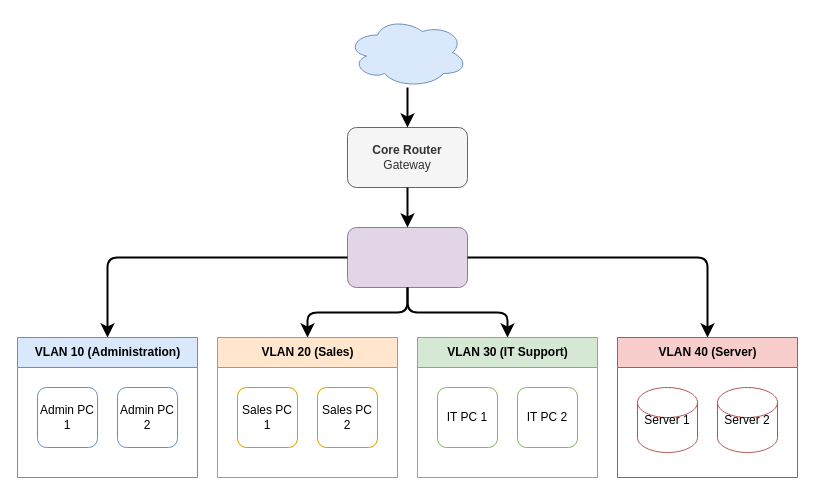
Image size: 815x495. Some labels were removed from this diagram. Here are the shapes that lost their labels. From the top down, the centre of each, then its label:
At point 407,52: "Internet WAN Cloud".
At point 407,257: "Core Switch Layer 3".
